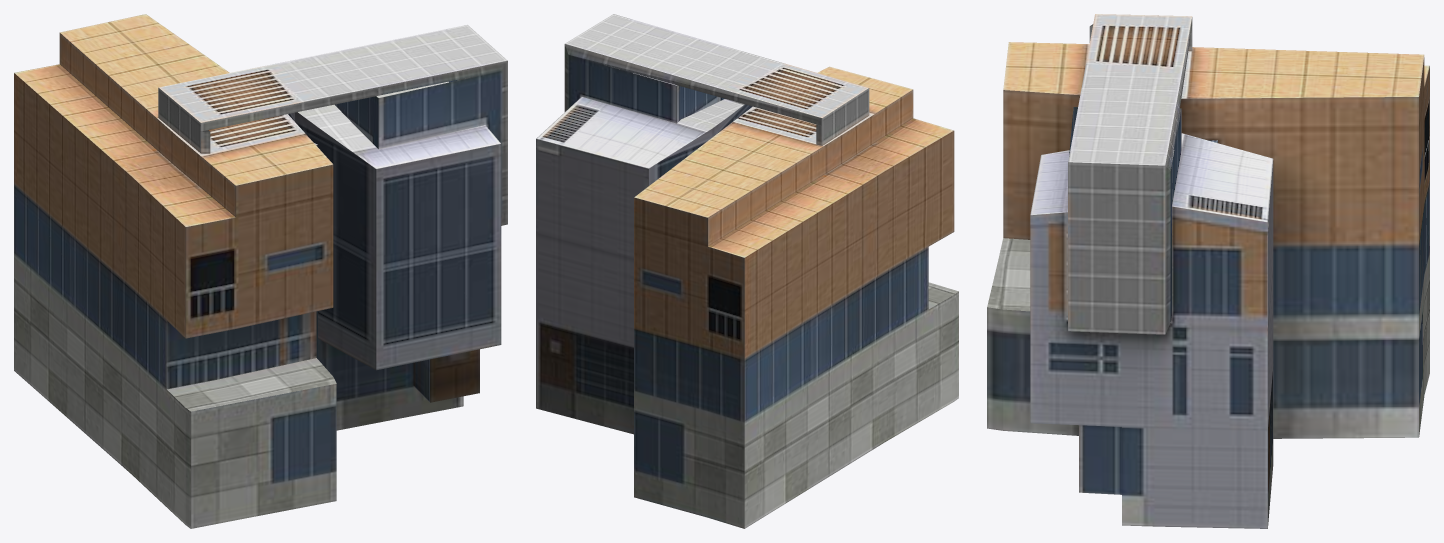
3 renders of one model, left to right at view 1: azimuth 30°, elevation 25°; view 2: azimuth 150°, elevation 25°; view 3: azimuth 270°, elevation 25°, orthographic. The views are drawn at different scales.
Parts seen in each view (by area): view 1: MainBuilding; view 2: MainBuilding; view 3: MainBuilding.
Boxes of the visible parts, box(x1,y1,x2,y2) form: MainBuilding: box(14, 14, 507, 528); MainBuilding: box(536, 14, 958, 528); MainBuilding: box(987, 14, 1429, 528).
Size of the model in its own units: 1.23 by 1.19 by 1.28.
Materials: 1 (1 with a texture image).
